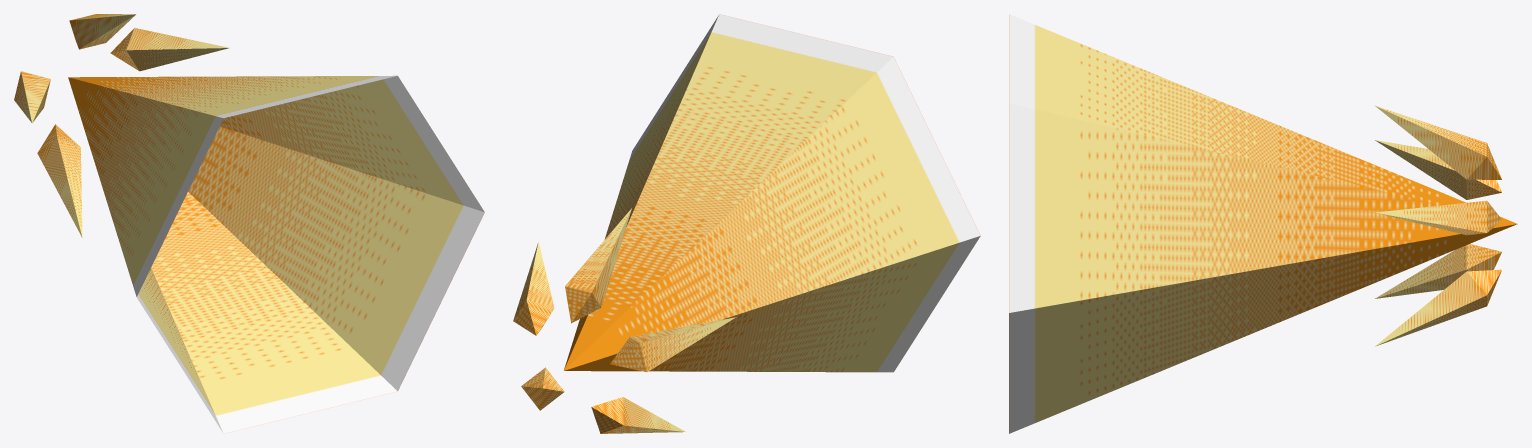
File: muzzleflare.obj
The picture shows the model from 3 angles, left to right: view 1: azimuth 30°, elevation 25°; view 2: azimuth 150°, elevation 25°; view 3: azimuth 270°, elevation 25°; orthographic projection. The views are drawn at different scales.
Parts seen in each view (by area): view 1: Mesh; view 2: Mesh; view 3: Mesh.
Part boxes in pixels (<box>): Mesh: <box>14,14,484,433</box>; Mesh: <box>513,14,980,433</box>; Mesh: <box>1009,14,1517,433</box>.
Size of the model in its own units: 1 by 0.866 by 1.21.
